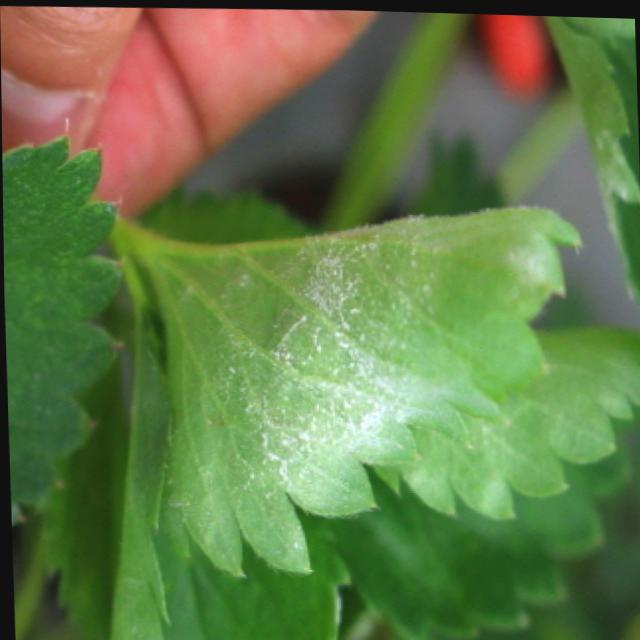Powdery Mildew Leaf: (130, 202, 583, 579)
